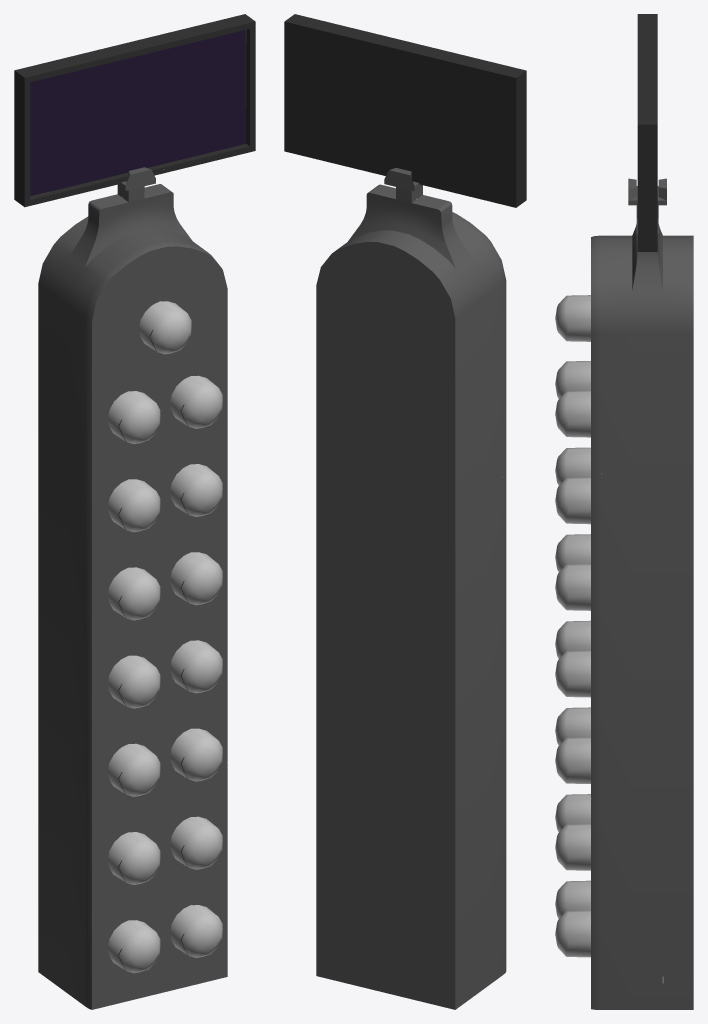
Rendered from Digicode2.fbx.
3 views of the same model, side by side, from view 1: azimuth 30°, elevation 25°; view 2: azimuth 150°, elevation 25°; view 3: azimuth 270°, elevation 25° (orthographic). The views are drawn at different scales.
Visible parts, largest first — view 1: Case, Screen, Button.004, Button.005, Button.008, Button.001, Button.011, Button.012, Button, Button.003, Button.007, Button.014 (+5 smaller); view 2: Case, Screen; view 3: Case, Screen, Button, Button.010, Button.013, Button.012, Button.002, Button.009, Button.011, Button.014, Button.004, Button.007 (+5 smaller).
Boxes of the visible parts, left/top/right/bottom form: Case: left=38, top=167, right=227, bottom=1009; Screen: left=14, top=14, right=255, bottom=207; Button.004: left=107, top=567, right=160, bottom=620; Button.005: left=107, top=655, right=160, bottom=708; Button.008: left=107, top=920, right=160, bottom=973; Button.001: left=107, top=391, right=160, bottom=443; Button.011: left=170, top=640, right=222, bottom=693; Button.012: left=170, top=728, right=222, bottom=781; Button: left=139, top=301, right=191, bottom=354; Button.003: left=107, top=479, right=160, bottom=532; Button.007: left=107, top=832, right=160, bottom=884; Button.014: left=170, top=905, right=222, bottom=957; Case: left=316, top=168, right=506, bottom=1009; Screen: left=284, top=14, right=526, bottom=207; Case: left=591, top=178, right=693, bottom=1009; Screen: left=637, top=14, right=657, bottom=251; Button: left=555, top=295, right=590, bottom=341; Button.010: left=555, top=564, right=590, bottom=610; Button.013: left=555, top=824, right=590, bottom=870; Button.012: left=555, top=737, right=590, bottom=783; Button.002: left=555, top=390, right=590, bottom=437; Button.009: left=555, top=477, right=590, bottom=524; Button.011: left=555, top=650, right=590, bottom=697; Button.014: left=555, top=910, right=590, bottom=957; Button.004: left=555, top=534, right=590, bottom=571; Button.007: left=555, top=794, right=590, bottom=831.
Size of the model in its own units: 0.09 by 0.3445 by 0.0476.
1 material, 1 textured.
